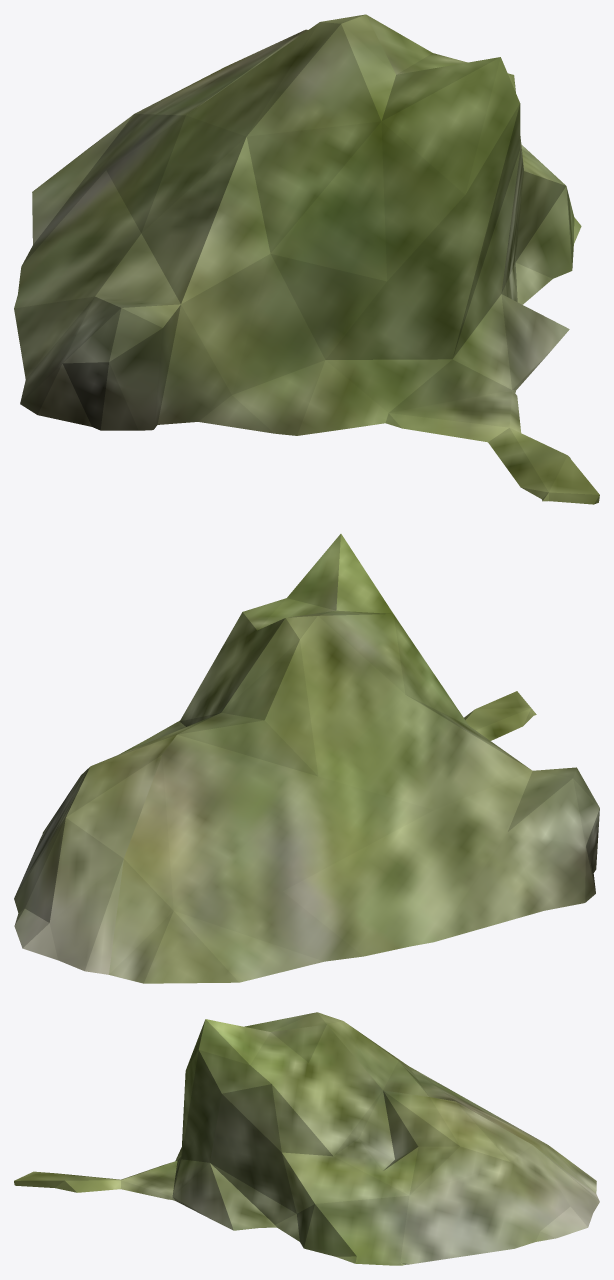
3 renders of one model, top to bottom at view 1: azimuth 30°, elevation 25°; view 2: azimuth 150°, elevation 25°; view 3: azimuth 270°, elevation 25°, orthographic. The views are drawn at different scales.
Bounding box in the file's own units: 1.48 × 0.725 × 2.08.
1 material, 1 textured.
